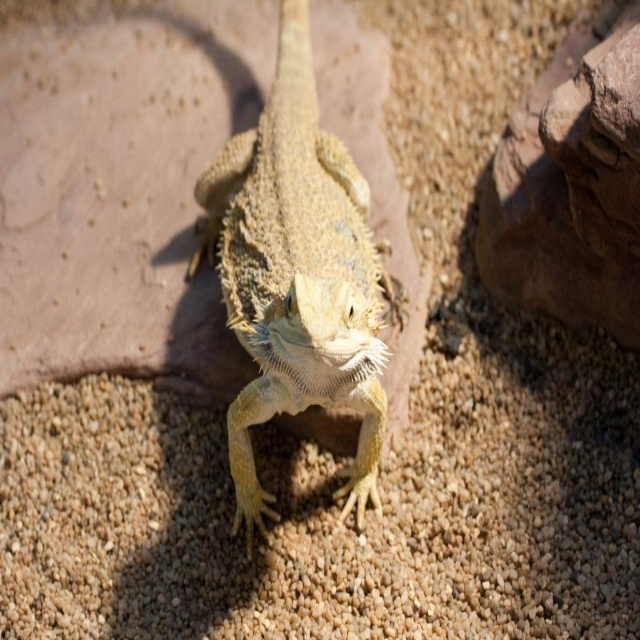Lizard: (187, 0, 410, 561)
